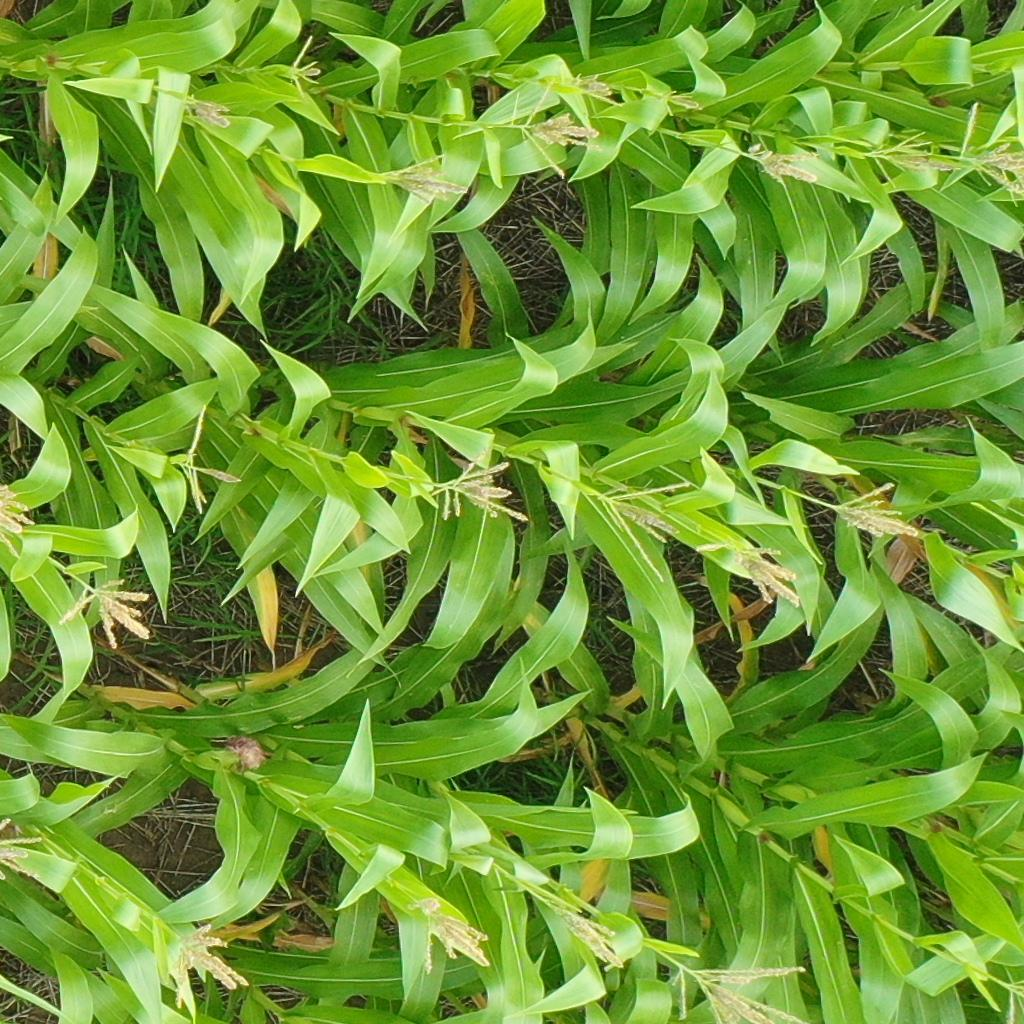Tassel: (597, 479, 691, 584), (512, 78, 603, 182), (672, 958, 808, 1024), (432, 444, 531, 526), (696, 536, 804, 609), (950, 102, 1024, 202), (166, 923, 251, 1009), (408, 892, 494, 976), (179, 403, 243, 515), (59, 578, 154, 651), (542, 889, 625, 968), (868, 131, 961, 190), (828, 482, 920, 540), (377, 153, 469, 207), (741, 144, 819, 188), (1, 817, 47, 881), (556, 63, 623, 106), (1, 483, 38, 559), (287, 35, 322, 99), (181, 93, 234, 132), (659, 86, 700, 117), (1000, 978, 1024, 998)
